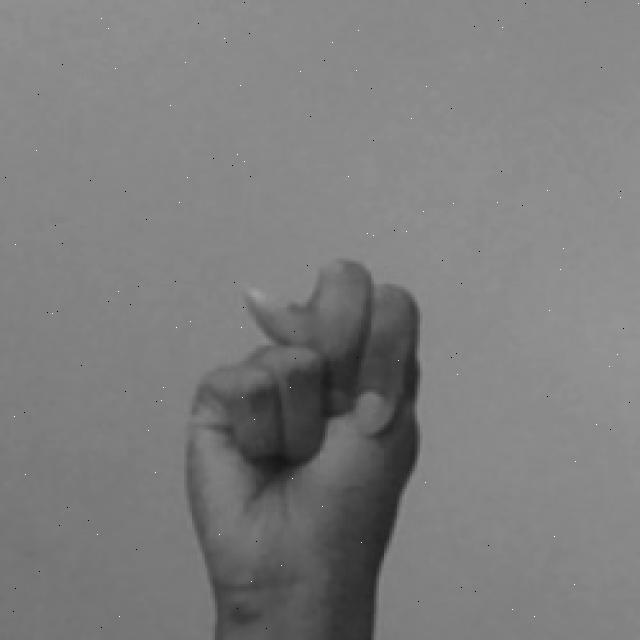N: (178, 253, 426, 640)
